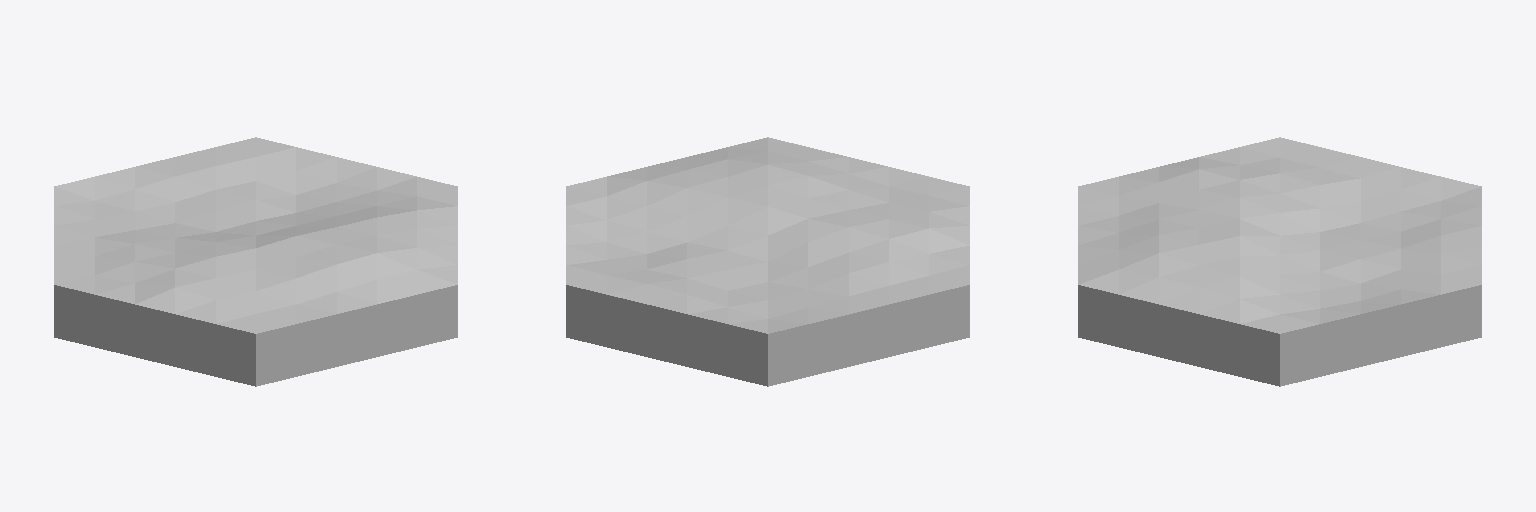
Rendered from desert.obj.
The picture shows the model from 3 angles: view 1: azimuth 30°, elevation 25°; view 2: azimuth 150°, elevation 25°; view 3: azimuth 270°, elevation 25°; orthographic projection.
Visible parts, largest first — view 1: Robber_Plane.000; view 2: Robber_Plane.000; view 3: Robber_Plane.000.
Boxes of the visible parts, x1=… form: Robber_Plane.000: x1=54, y1=137, x2=457, y2=386; Robber_Plane.000: x1=566, y1=137, x2=969, y2=386; Robber_Plane.000: x1=1078, y1=137, x2=1481, y2=386.
Bounding box in the file's own units: 4 × 0.6141 × 3.46.